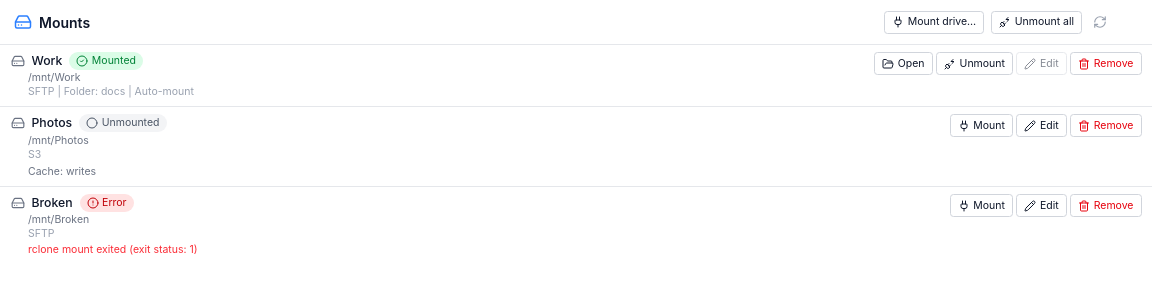
Test: Mounts list › mounts a saved mount and reloads the list
Expected: the text "Photos" is shown, [32,114,72,132]
Step 1. Click the button "Mount" in the row of "Unmounted" → click(981, 126), box [950,114,1013,137]
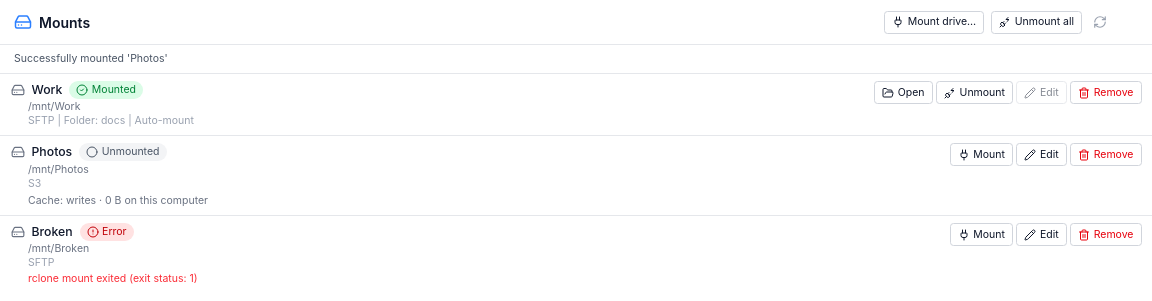
Expected: the message reads "Successfully mounted 'Photos'", [14,52,168,65]
